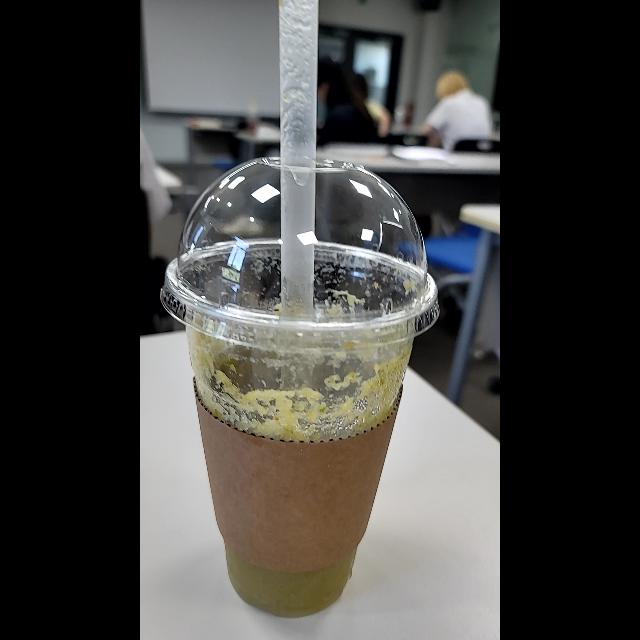plastic_cup: (152, 144, 444, 622)
plastic_cup_lid: (153, 152, 455, 358)
straw: (284, 0, 318, 315)
